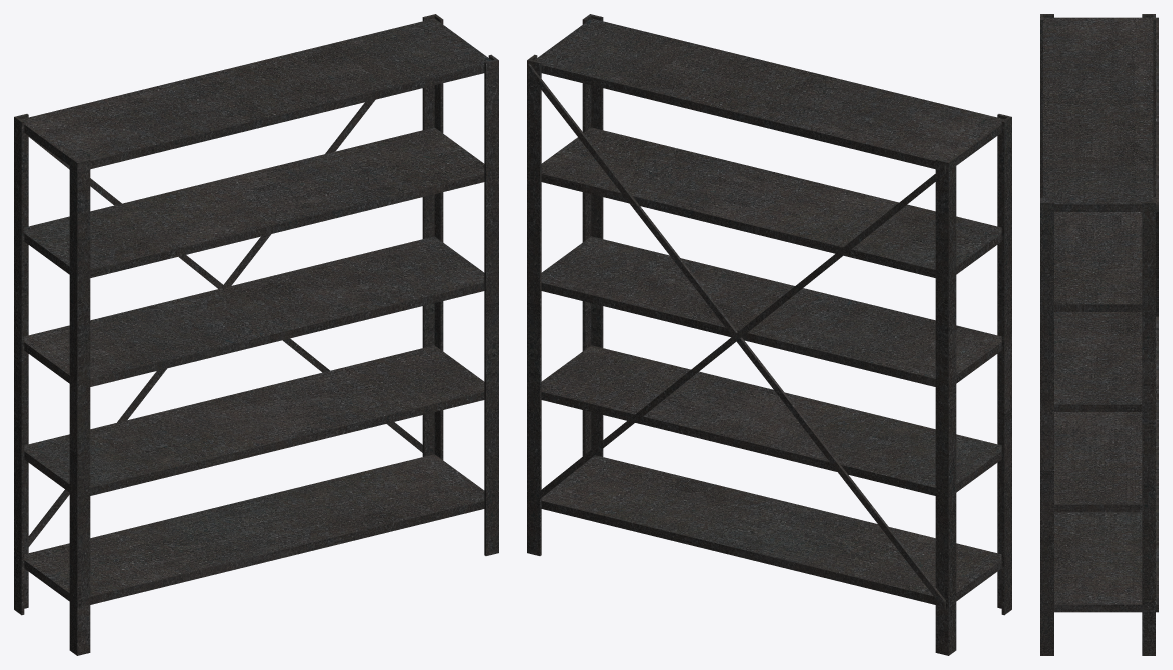
File: shelf_mx_3_1.glb
3 renders of one model, left to right at view 1: azimuth 30°, elevation 25°; view 2: azimuth 150°, elevation 25°; view 3: azimuth 270°, elevation 25°, orthographic. The views are drawn at different scales.
Parts seen in each view (by area): view 1: shelf_mx_3_1; view 2: shelf_mx_3_1; view 3: shelf_mx_3_1.
Part boxes in pixels (x1,y1,x2,y2): shelf_mx_3_1: (14,14,498,655); shelf_mx_3_1: (527,14,1011,655); shelf_mx_3_1: (1040,14,1158,655).
Bounding box in the file's own units: 1.62 × 1.81 × 0.43.
1 material, 1 textured.
